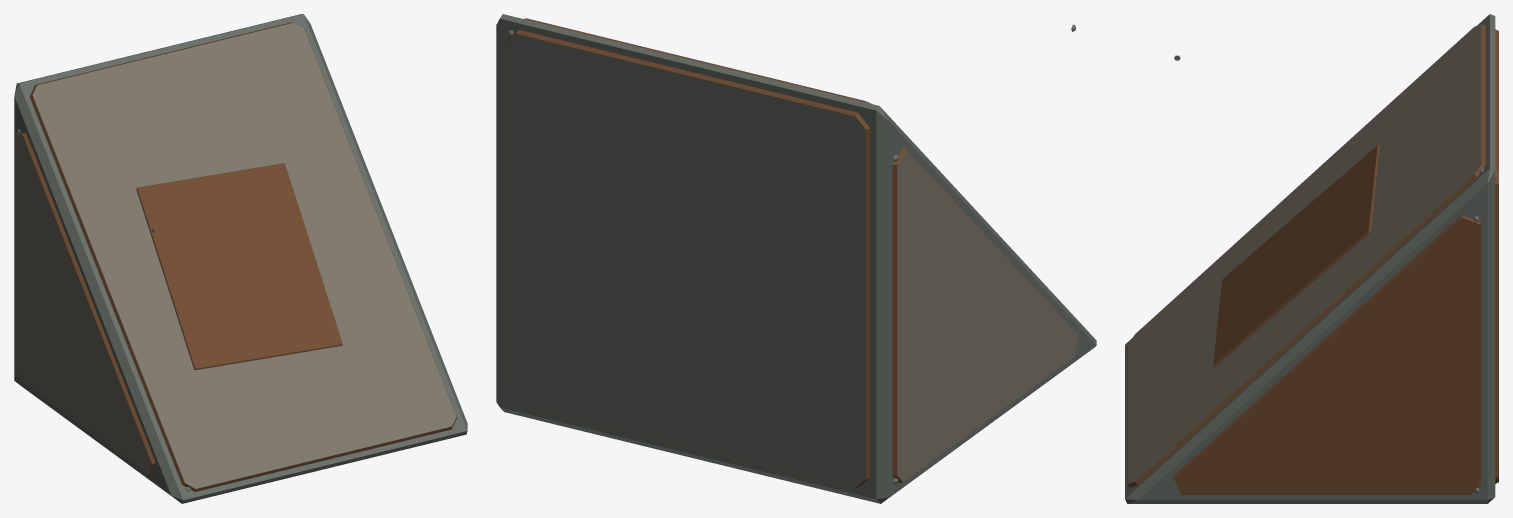
The model's file is R4B_Wedge.fbx.
3 renders of one model, left to right at view 1: azimuth 30°, elevation 25°; view 2: azimuth 150°, elevation 25°; view 3: azimuth 270°, elevation 25°, orthographic. The views are drawn at different scales.
Parts seen in each view (by area): view 1: R4B_Wedge; view 2: R4B_Wedge; view 3: R4B_Wedge.
Boxes of the visible parts, bbox=[...] form: R4B_Wedge: bbox=[14, 14, 467, 503]; R4B_Wedge: bbox=[496, 14, 1096, 503]; R4B_Wedge: bbox=[1125, 14, 1498, 503].
Bounding box in the file's own units: 0.52 × 0.5008 × 0.5008.
